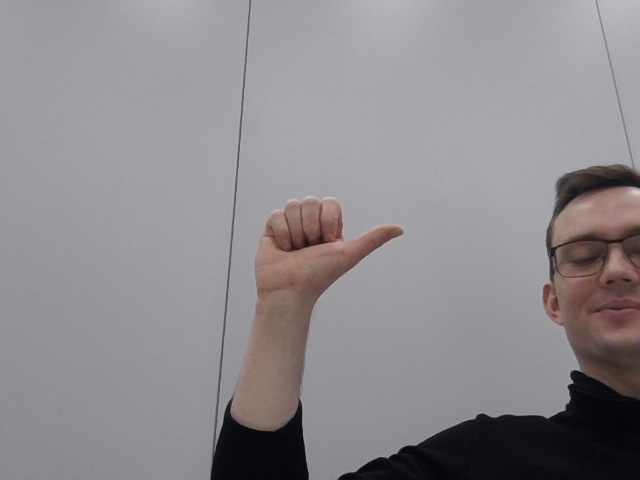left: (224, 177, 422, 328)
